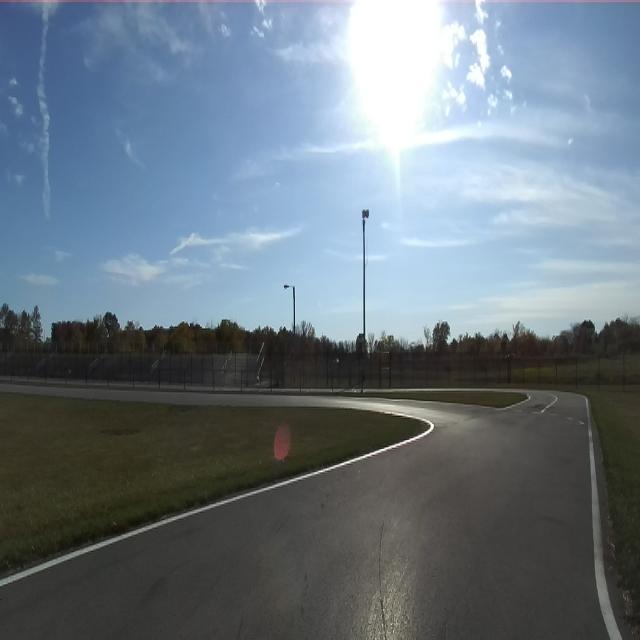white-line: (0, 411, 434, 588), (584, 396, 622, 639), (532, 408, 545, 413), (578, 420, 584, 425), (566, 417, 572, 420)
